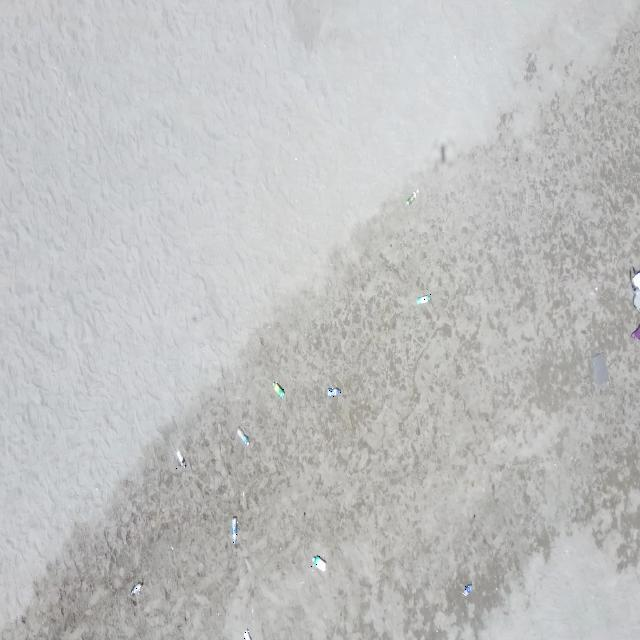Garbage: (592, 352, 607, 386), (631, 268, 639, 310), (312, 555, 326, 571), (129, 580, 143, 595), (404, 188, 417, 204), (236, 427, 247, 444), (176, 449, 186, 467), (273, 380, 283, 397), (415, 292, 430, 303), (632, 287, 639, 310), (231, 515, 236, 543), (632, 268, 639, 287), (462, 583, 472, 596), (631, 324, 639, 340), (327, 387, 340, 395), (243, 628, 251, 639), (440, 143, 443, 161)
